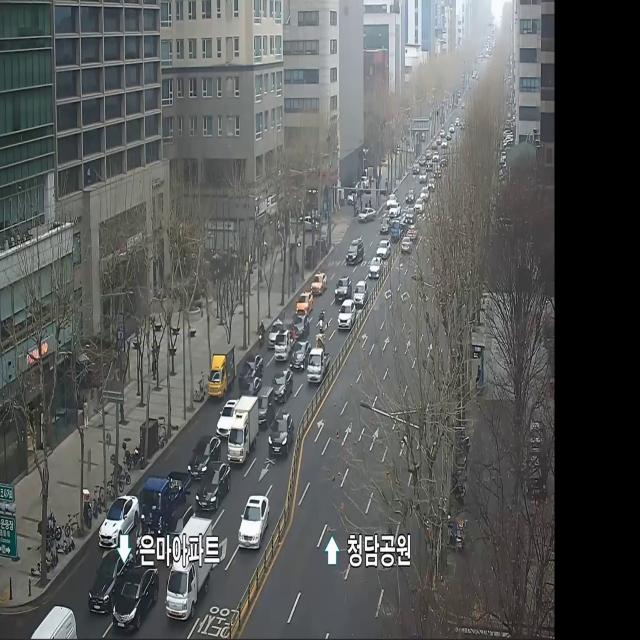bus: (255, 316, 268, 352), (316, 305, 329, 337)
motorcycle: (232, 487, 275, 563), (266, 410, 294, 463)
truck: (167, 514, 215, 630), (139, 458, 193, 538), (227, 391, 260, 468), (206, 343, 238, 401)
